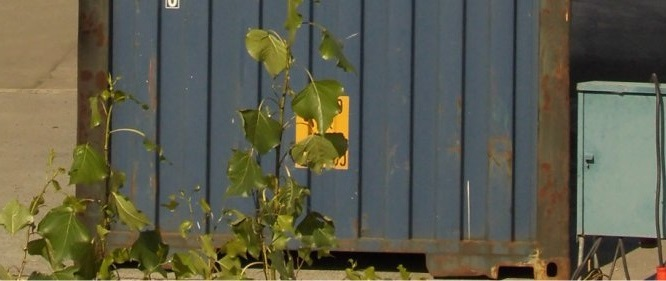container_no_door: (75, 6, 572, 255)
